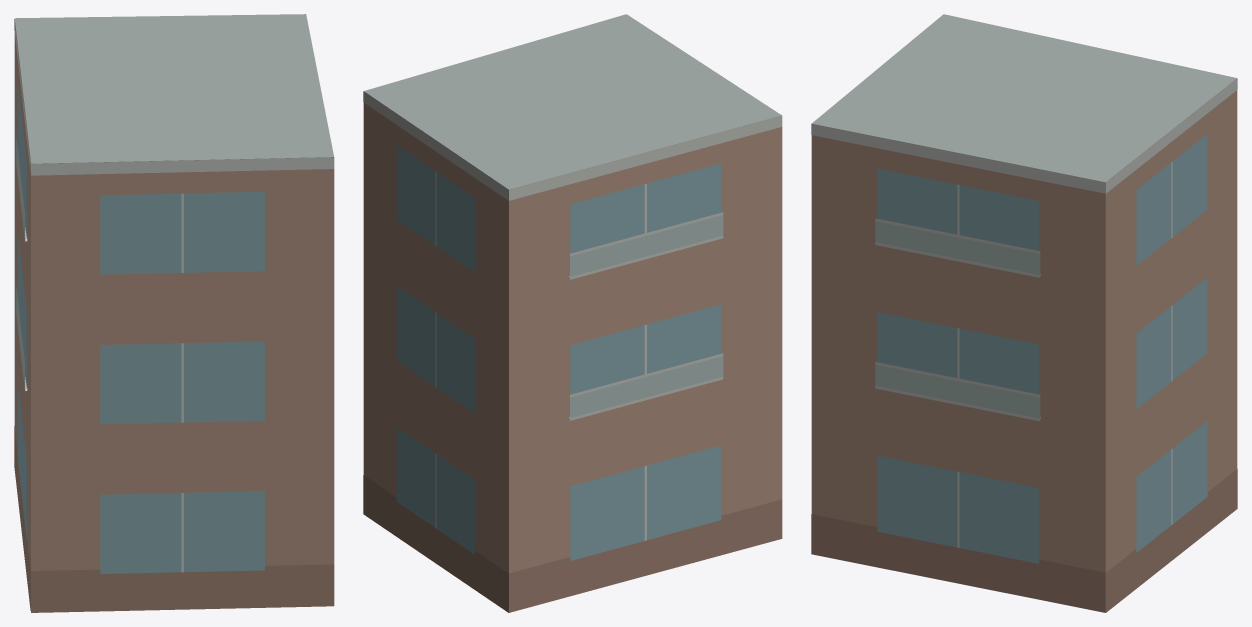
The model's file is survey-upis-32895743.glb.
3 views of the same model, side by side, from view 1: azimuth 30°, elevation 25°; view 2: azimuth 150°, elevation 25°; view 3: azimuth 270°, elevation 25° (orthographic). The views are drawn at different scales.
Visible parts, largest first — view 1: survey-upis-32895743.tmp; view 2: survey-upis-32895743.tmp; view 3: survey-upis-32895743.tmp.
Boxes of the visible parts, x1,y1,x2,y2 form: survey-upis-32895743.tmp: (14,14,334,612); survey-upis-32895743.tmp: (363,14,782,612); survey-upis-32895743.tmp: (811,14,1237,612).
Size of the model in its own units: 7.68 by 9.15 by 8.22.
